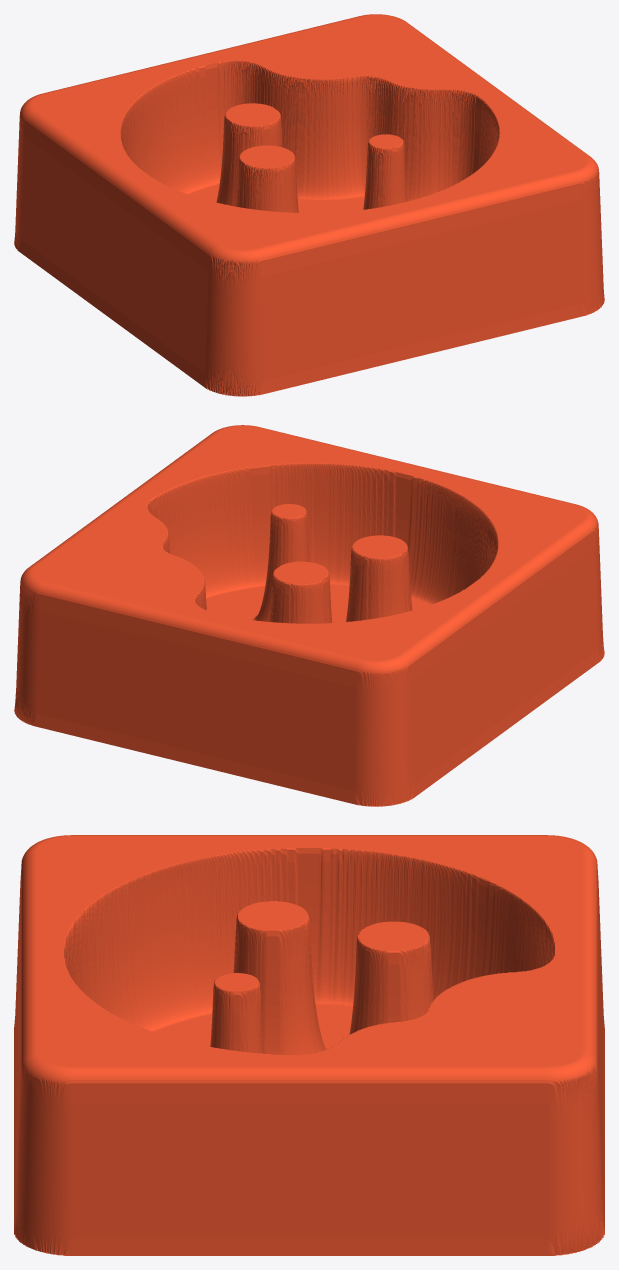
The model's file is mold.glb.
The picture shows the model from 3 angles, top to bottom: view 1: azimuth 30°, elevation 25°; view 2: azimuth 150°, elevation 25°; view 3: azimuth 270°, elevation 25°; orthographic projection. The views are drawn at different scales.
Visible parts, largest first — view 1: geometry_0; view 2: geometry_0; view 3: geometry_0.
Part boxes in pixels (x1=…): geometry_0: x1=14, y1=14, x2=604, y2=396; geometry_0: x1=14, y1=425, x2=604, y2=806; geometry_0: x1=14, y1=835, x2=604, y2=1255.
Size of the model in its own units: 0.0922 by 0.031 by 0.0924.
